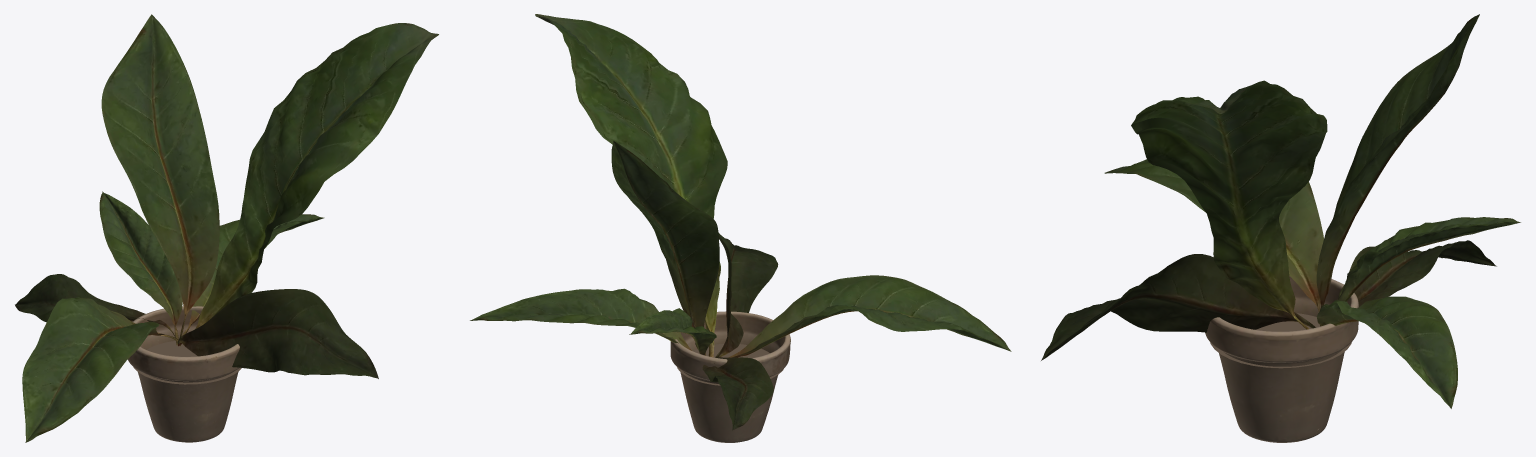
Rendered from ph-anthurium-goo.glb.
3 views of the same model, side by side, from view 1: azimuth 30°, elevation 25°; view 2: azimuth 150°, elevation 25°; view 3: azimuth 270°, elevation 25° (orthographic). The views are drawn at different scales.
Visible parts, largest first — view 1: anthurium_botany_04_d, Central_Garden_Flower_Pot_Goo_425, soil; view 2: anthurium_botany_04_d, Central_Garden_Flower_Pot_Goo_425, soil; view 3: anthurium_botany_04_d, Central_Garden_Flower_Pot_Goo_425, soil.
Boxes of the visible parts, box(x1,y1,x2,y2) form: anthurium_botany_04_d: box(15, 14, 438, 442); Central_Garden_Flower_Pot_Goo_425: box(128, 306, 239, 442); soil: box(133, 341, 241, 384); anthurium_botany_04_d: box(470, 14, 1011, 430); Central_Garden_Flower_Pot_Goo_425: box(670, 311, 790, 442); soil: box(677, 343, 783, 385); anthurium_botany_04_d: box(1041, 14, 1520, 408); Central_Garden_Flower_Pot_Goo_425: box(1205, 276, 1358, 442); soil: box(1210, 313, 1351, 368).
Size of the model in its own units: 0.4809 by 0.3718 by 0.3508.
3 materials, 2 textured.
